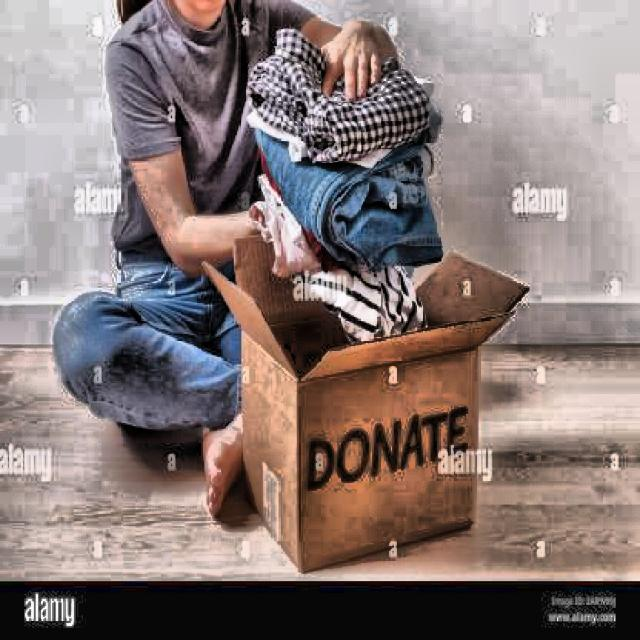Cardbox: (200, 240, 512, 576)
